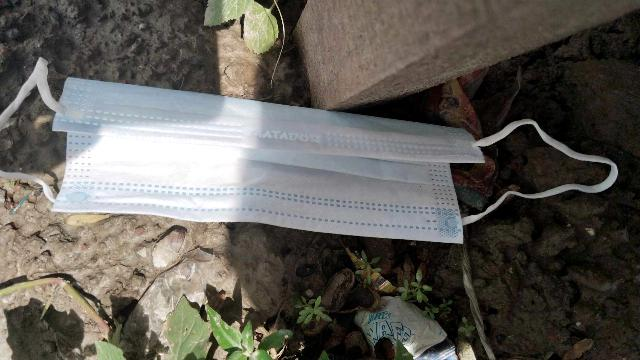mask: (20, 31, 629, 296)
